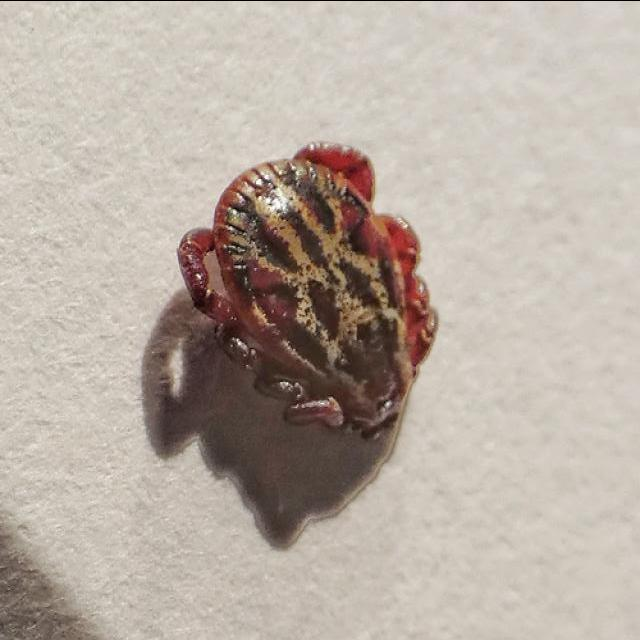Dermacentor Reticulatus-M: (177, 143, 438, 435)
